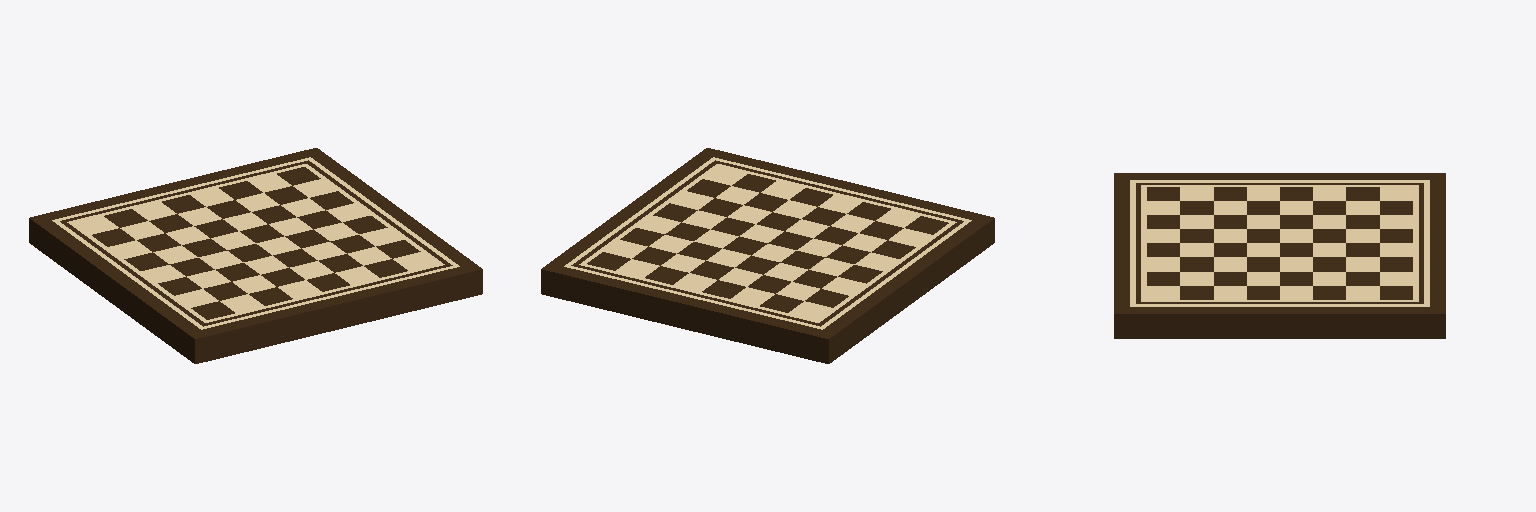
3 renders of one model, left to right at view 1: azimuth 30°, elevation 25°; view 2: azimuth 150°, elevation 25°; view 3: azimuth 270°, elevation 25°, orthographic.
Parts seen in each view (by area): view 1: object 1; view 2: object 1; view 3: object 1.
Part boxes in pixels (x1,y1,x2,y2): object 1: (29, 148, 482, 363); object 1: (541, 148, 994, 363); object 1: (1114, 173, 1445, 338).
Bounding box in the file's own units: 6 × 0.5 × 6.
1 materials, 1 textured.